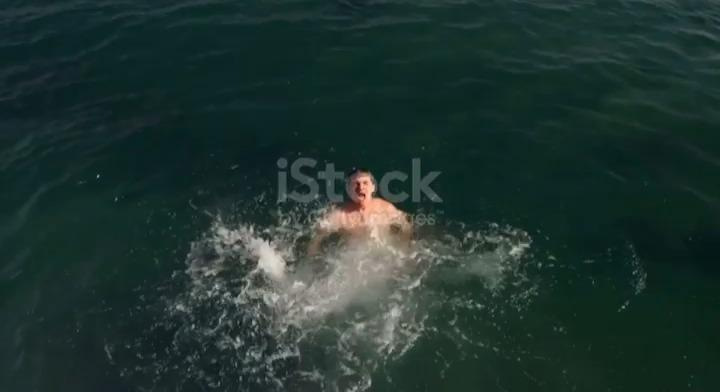Drowning: (194, 79, 477, 290)
